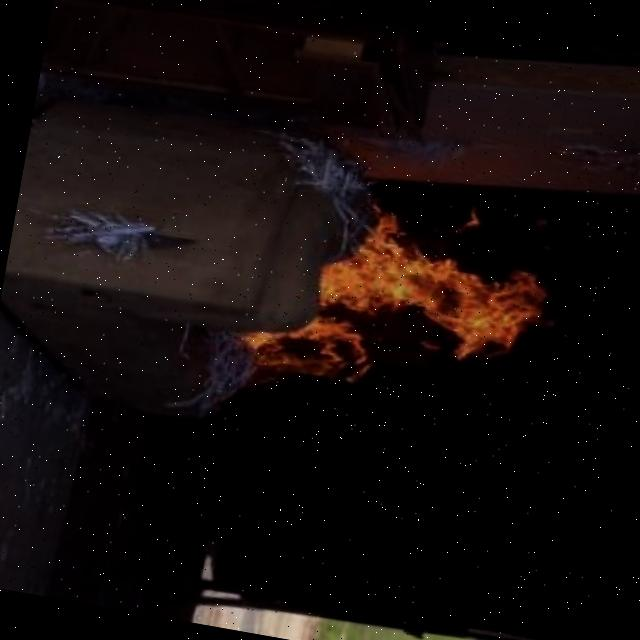fire: (219, 196, 578, 467)
